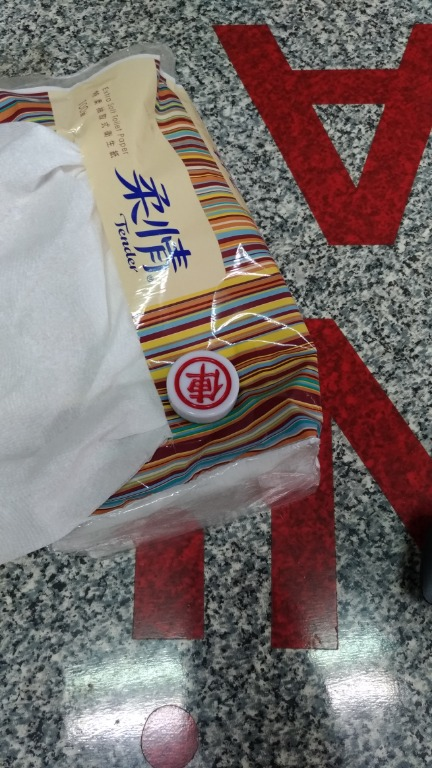r-rook: (157, 338, 249, 425)
